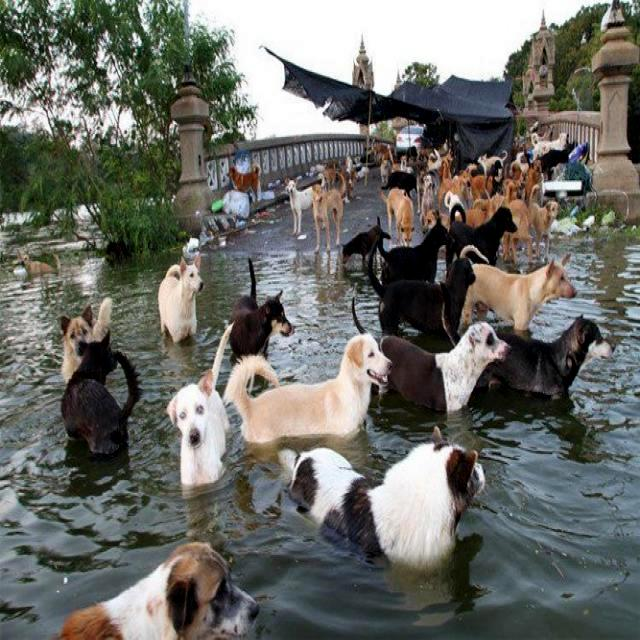dog: (274, 426, 488, 566), (54, 538, 264, 640), (218, 337, 391, 439), (352, 320, 498, 419), (480, 316, 614, 402), (56, 340, 136, 461), (160, 369, 237, 494), (456, 248, 584, 318), (374, 263, 478, 331), (228, 255, 290, 352), (149, 250, 205, 340), (49, 289, 110, 369), (436, 206, 516, 264), (380, 220, 450, 282), (490, 194, 540, 256), (310, 174, 348, 248), (340, 218, 391, 270), (382, 188, 424, 248), (281, 179, 321, 239), (526, 185, 562, 250), (221, 160, 265, 210), (15, 249, 68, 280), (452, 190, 496, 226), (418, 204, 459, 236), (470, 152, 509, 184), (437, 167, 472, 202), (522, 158, 549, 197), (498, 167, 526, 198), (474, 194, 511, 216), (414, 174, 436, 210), (424, 151, 457, 170), (529, 124, 563, 142), (319, 164, 340, 190), (378, 158, 394, 184), (396, 150, 408, 173)
